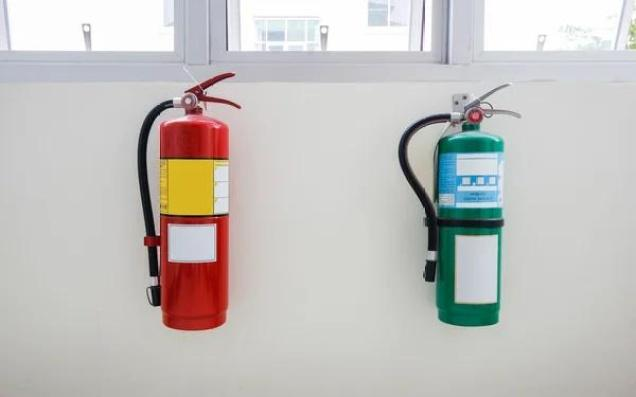APAR: (158, 71, 241, 331)
